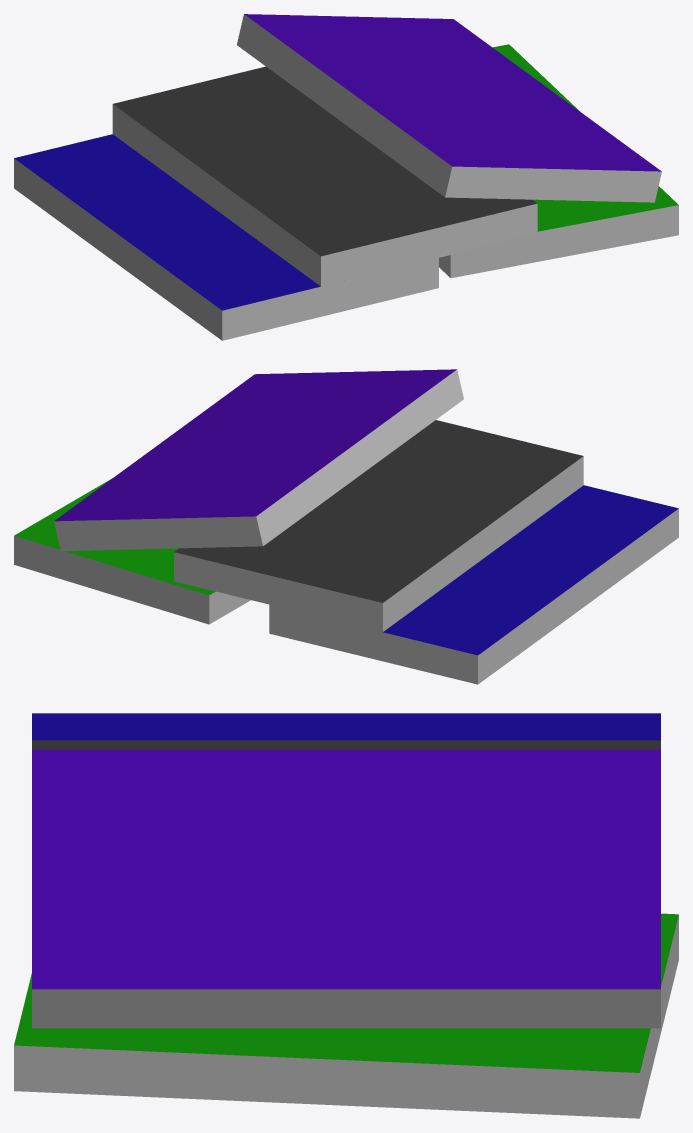
Rendered from charliroom_librosrelleno.fbx.
3 renders of one model, top to bottom at view 1: azimuth 30°, elevation 25°; view 2: azimuth 150°, elevation 25°; view 3: azimuth 270°, elevation 25°, orthographic. The views are drawn at different scales.
Parts seen in each view (by area): view 1: librosrelleno; view 2: librosrelleno; view 3: librosrelleno.
Boxes of the visible parts, <box> form: librosrelleno: <box>14,14,678,340</box>; librosrelleno: <box>14,369,678,684</box>; librosrelleno: <box>14,713,678,1118</box>.
Bounding box in the file's own units: 33.82 × 7.83 × 26.42.
